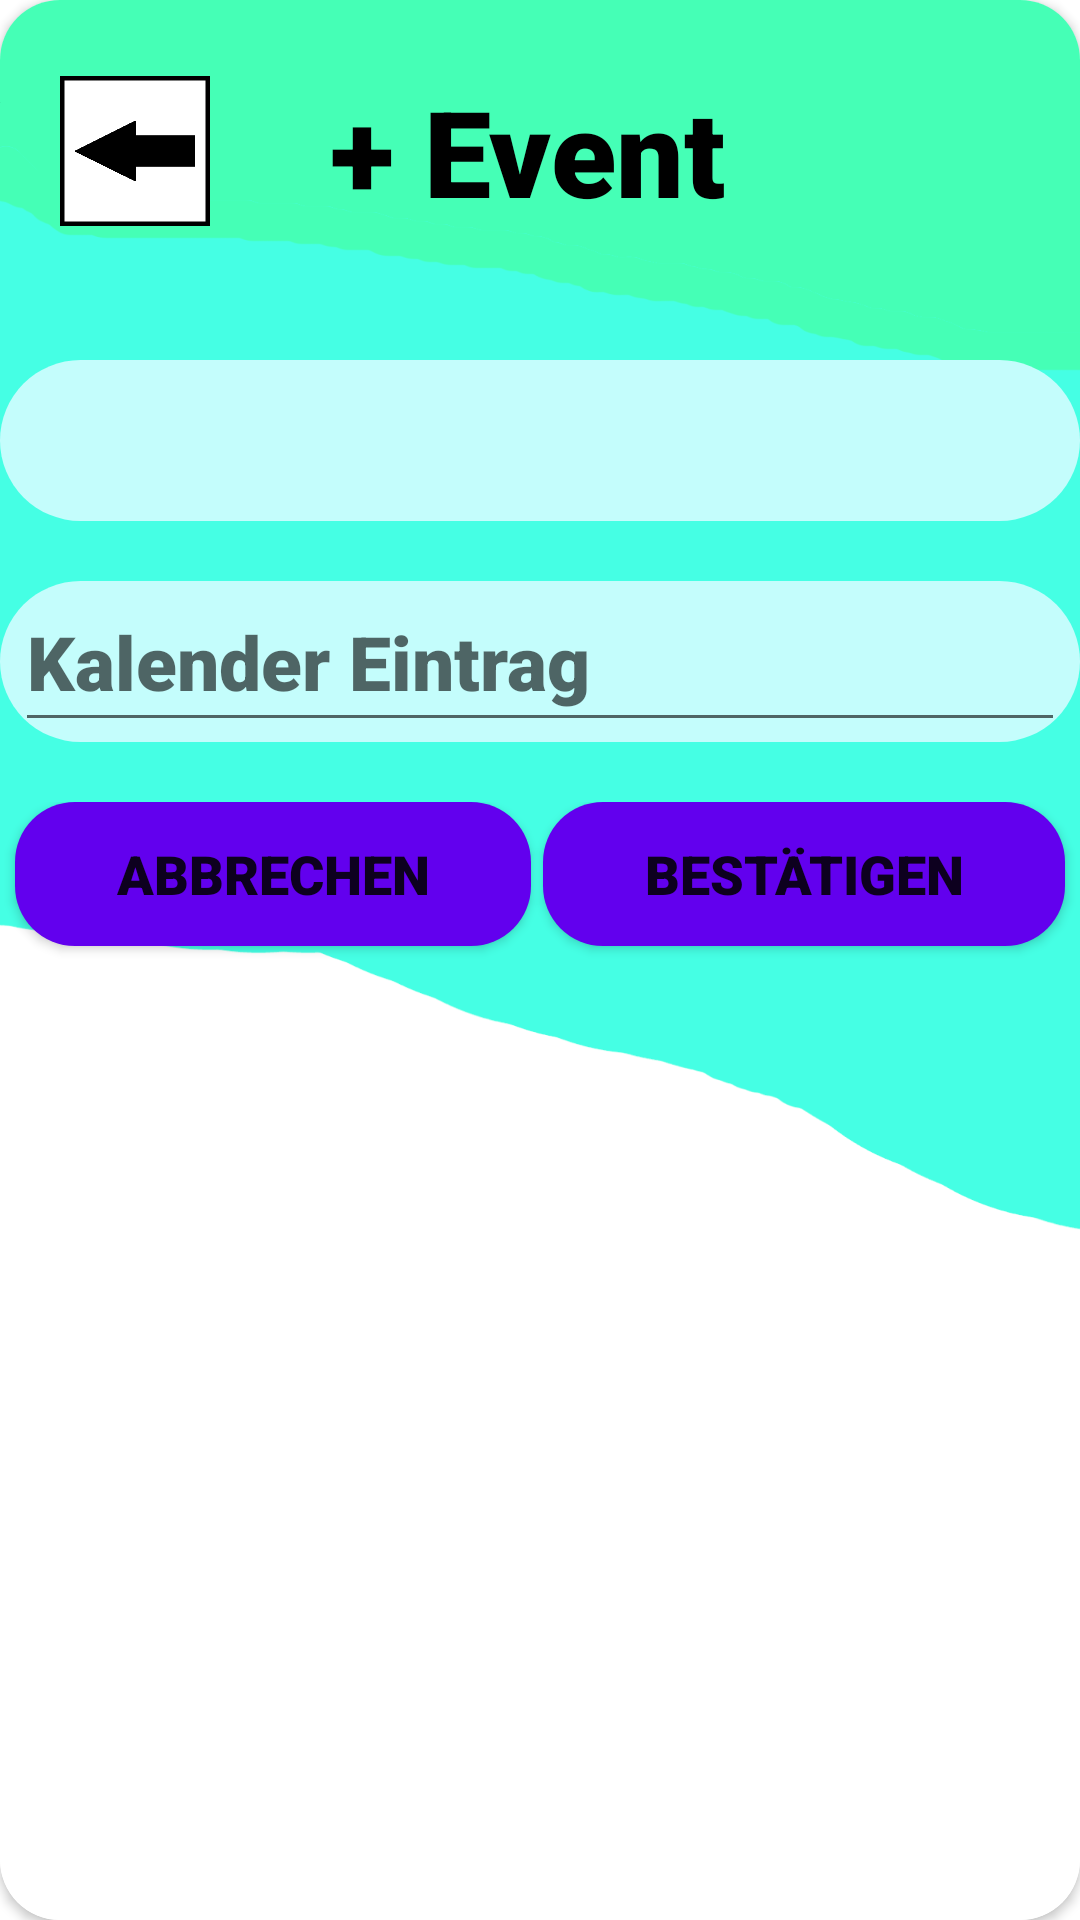

Named icons in this screenshot (1080w x 1920h) and their centers, (x,y):
zurueck: (135,151)
